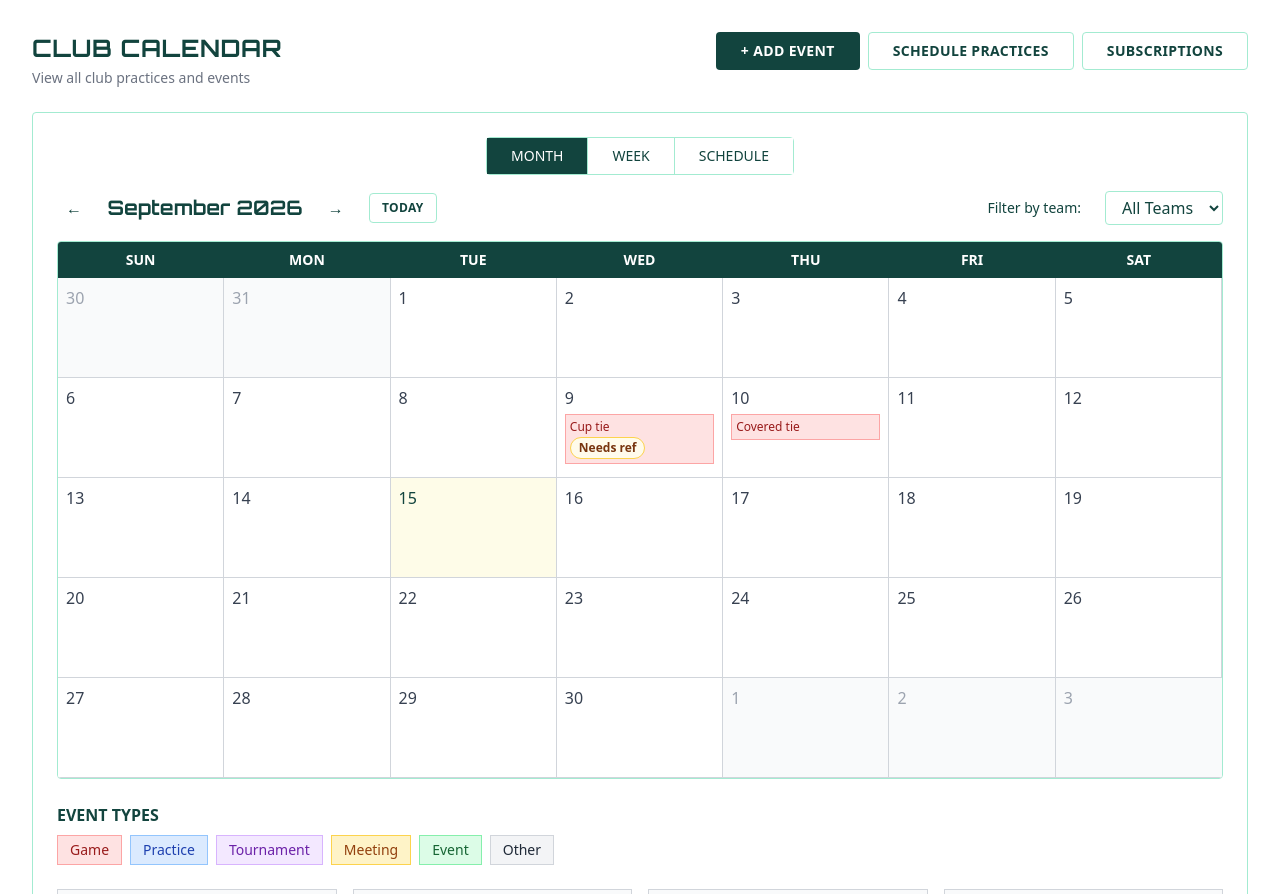
Scenario: Referees on the calendar (2026-09-08) › shows the chip and the minimum grade in the game modal header, with the Referees block
The image size is (1280, 894).
Click the text "Cup tie" at (590, 426), box [570, 418, 610, 435]
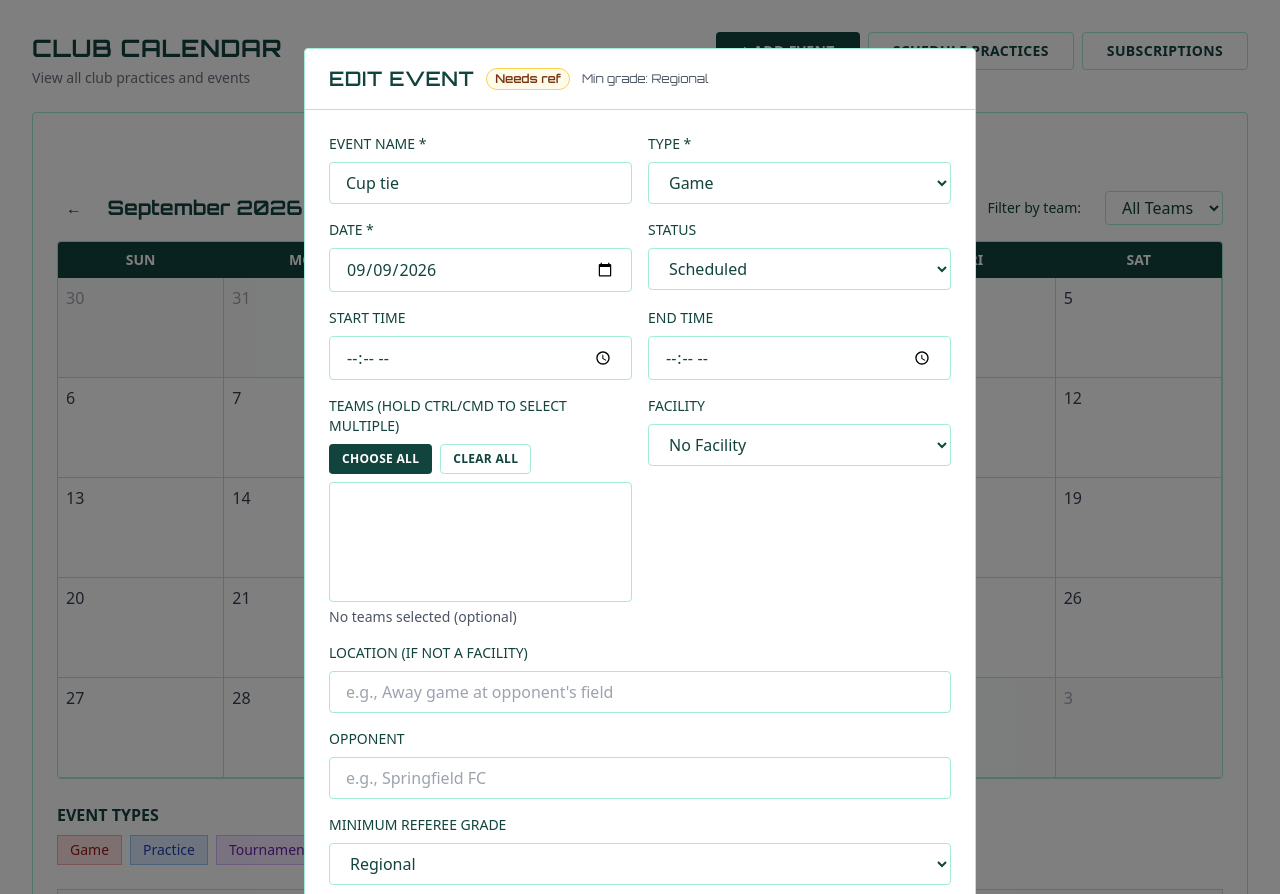
Expected: the text "Needs ref" is shown, [486, 68, 570, 90]
Expected: the heading "Edit Event Needs ref Min grade: Regional" is shown, [329, 66, 709, 91]
Expected: the dropdown labelled "Minimum referee grade" shows "Regional", [329, 843, 951, 885]
